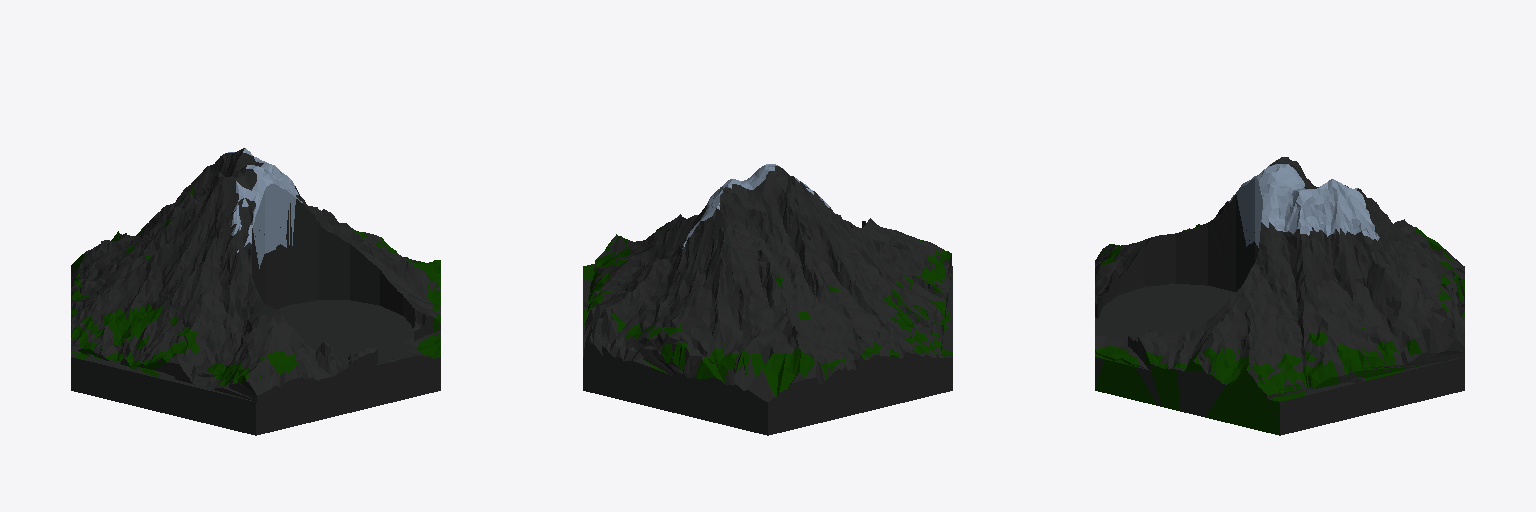
File: ore.obj
The picture shows the model from 3 angles: view 1: azimuth 30°, elevation 25°; view 2: azimuth 150°, elevation 25°; view 3: azimuth 270°, elevation 25°; orthographic projection.
Visible parts, largest first — view 1: ore_v2; view 2: ore_v2; view 3: ore_v2.
Boxes of the visible parts, x1,y1,x2,y2 form: ore_v2: [71, 148, 440, 435]; ore_v2: [583, 164, 952, 435]; ore_v2: [1095, 157, 1464, 435].
Bounding box in the file's own units: 73.36 × 33.85 × 63.53.